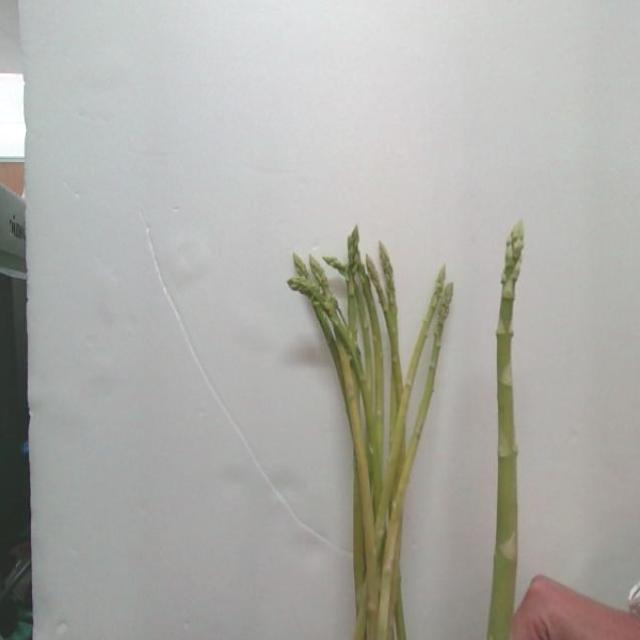aspargus: (486, 223, 526, 640)
